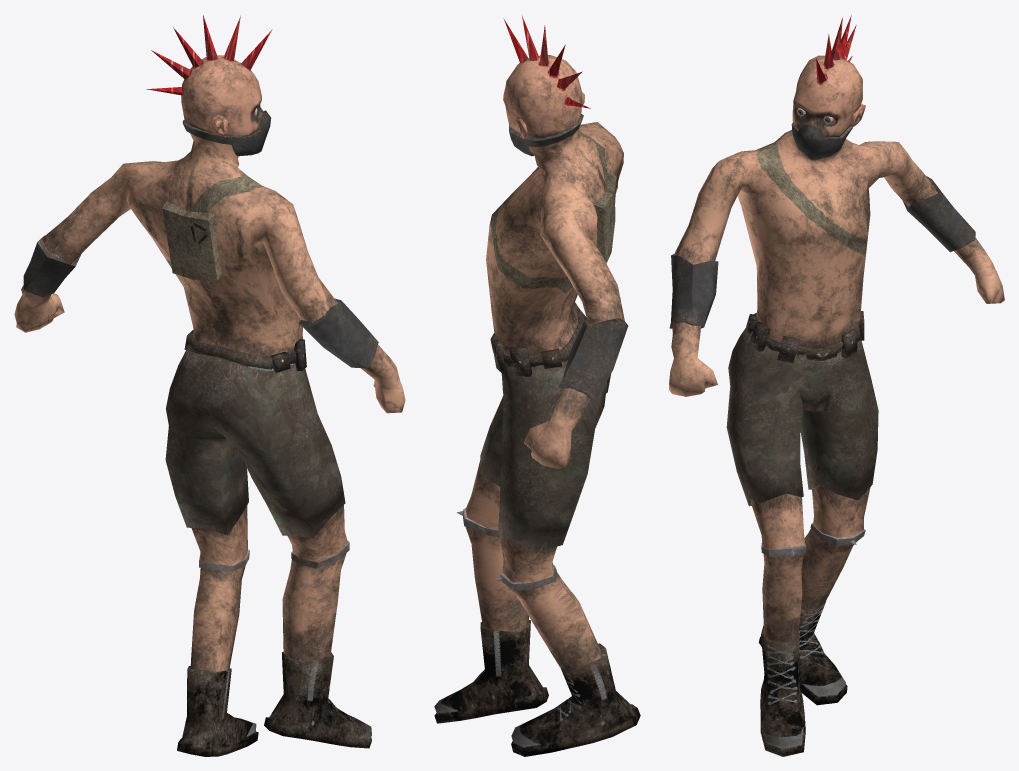
File: Anim_ataque_f1_npc2.0028.obj
The picture shows the model from 3 angles, left to right: view 1: azimuth 30°, elevation 25°; view 2: azimuth 150°, elevation 25°; view 3: azimuth 270°, elevation 25°; orthographic projection. The views are drawn at different scales.
Parts seen in each view (by area): view 1: polySurface1; view 2: polySurface1; view 3: polySurface1.
Boxes of the visible parts, left/top/right/bottom form: polySurface1: left=14, top=15, right=405, bottom=756; polySurface1: left=434, top=15, right=640, bottom=756; polySurface1: left=669, top=15, right=1004, bottom=756.
Size of the model in its own units: 3.73 by 10.2 by 4.56.
Materials: 2 (2 with a texture image).
